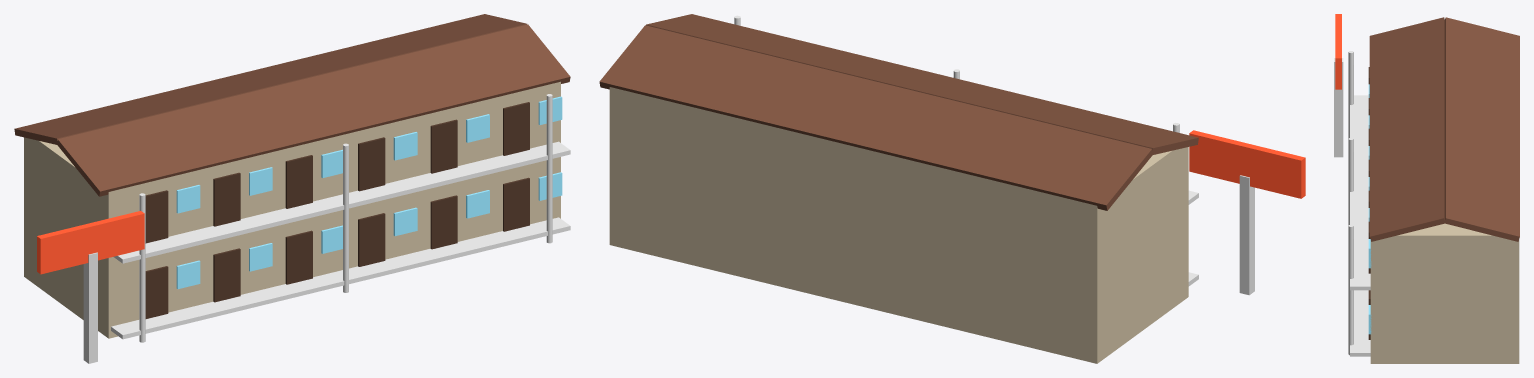
File: motel.gltf
3 renders of one model, left to right at view 1: azimuth 30°, elevation 25°; view 2: azimuth 150°, elevation 25°; view 3: azimuth 270°, elevation 25°, orthographic. The views are drawn at different scales.
Parts seen in each view (by area): view 1: motel; view 2: motel; view 3: motel.
Boxes of the visible parts, <box> form: motel: <box>14,14,570,363</box>; motel: <box>599,14,1305,363</box>; motel: <box>1334,14,1519,363</box>.
Bounding box in the file's own units: 24.3 × 7.23 × 8.13.
